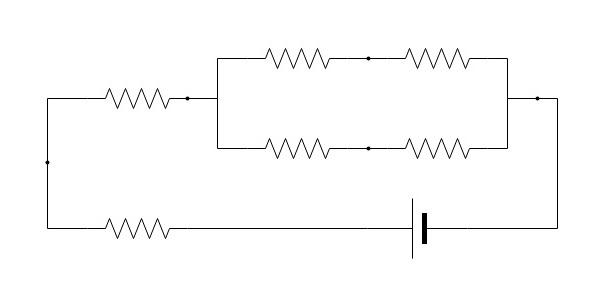resistor: (92, 202, 190, 254), (91, 71, 180, 128), (248, 33, 336, 86), (396, 122, 481, 167), (398, 35, 480, 80), (254, 131, 340, 169)
